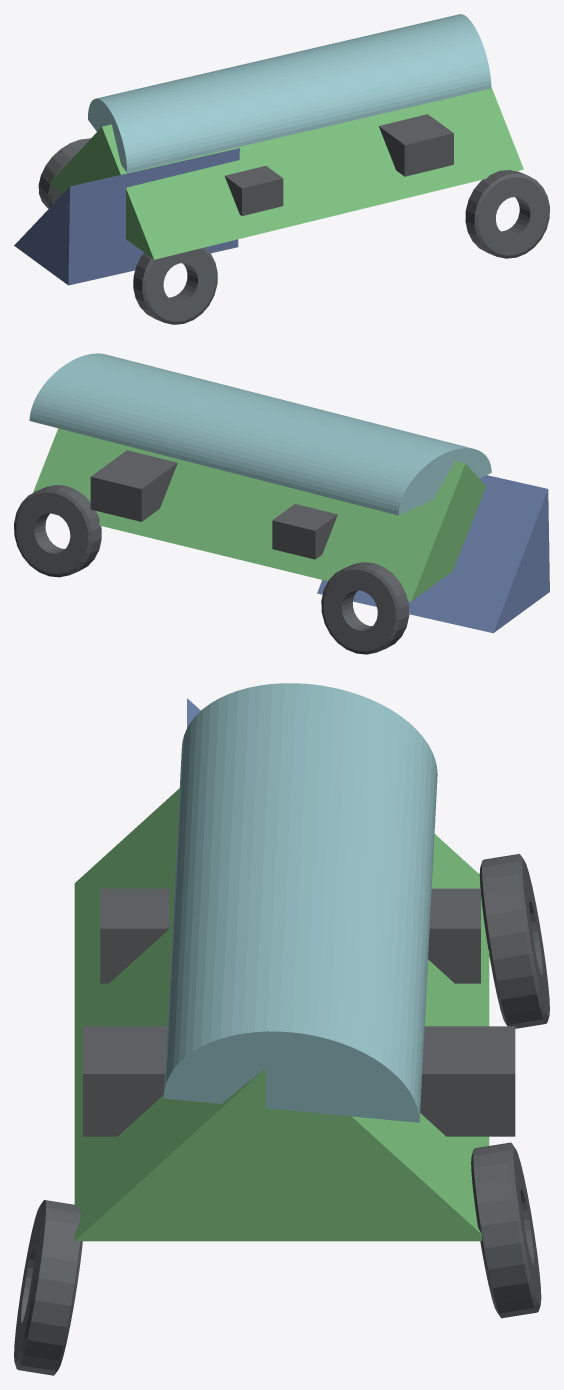
Rendered from carmodel.glb.
3 views of the same model, one above another, from view 1: azimuth 30°, elevation 25°; view 2: azimuth 150°, elevation 25°; view 3: azimuth 270°, elevation 25° (orthographic). The views are drawn at different scales.
Parts seen in each view (by area): view 1: Mesh_Mesh_head_geo.001_lambert2SG.001; view 2: Mesh_Mesh_head_geo.001_lambert2SG.001; view 3: Mesh_Mesh_head_geo.001_lambert2SG.001.
Boxes of the visible parts, box(x1,y1,x2,y2) form: Mesh_Mesh_head_geo.001_lambert2SG.001: box(14, 14, 549, 324); Mesh_Mesh_head_geo.001_lambert2SG.001: box(14, 353, 549, 654); Mesh_Mesh_head_geo.001_lambert2SG.001: box(14, 683, 549, 1375).
Bounding box in the file's own units: 117 × 45.93 × 62.
